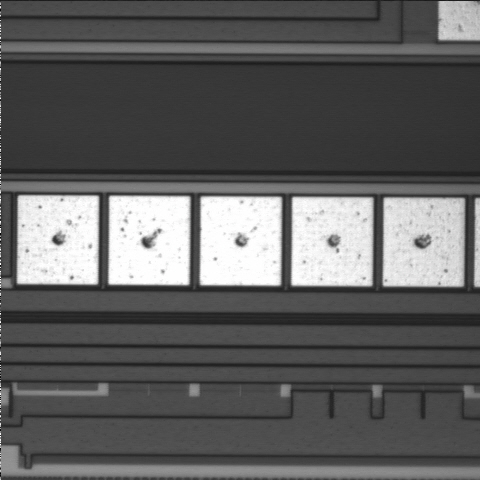pad: (17, 195, 99, 284), (200, 197, 282, 286), (291, 197, 373, 286), (109, 196, 190, 285), (383, 198, 464, 286)
